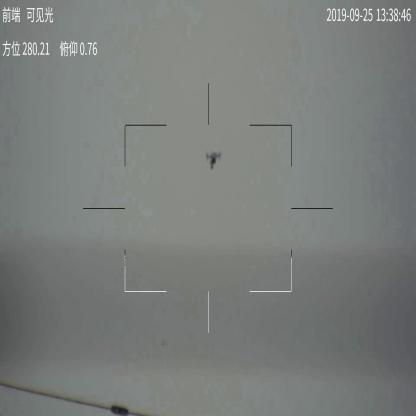uav: (204, 148, 222, 169)
